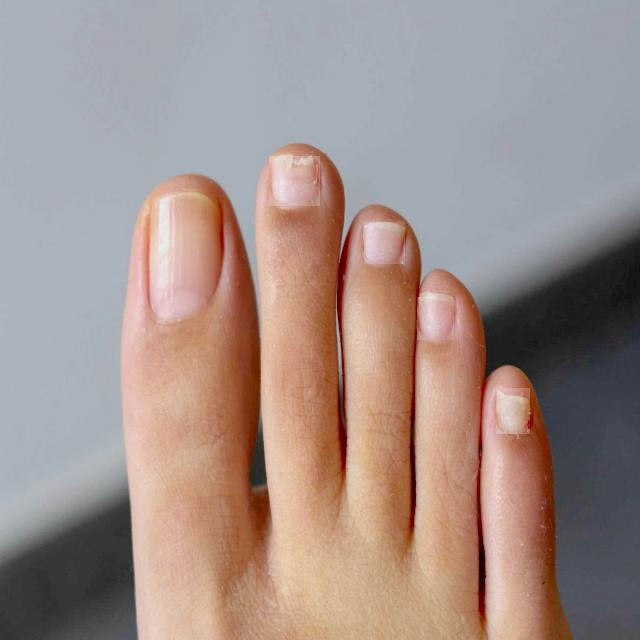diabetes: (270, 157, 320, 206), (496, 389, 530, 434)
sehat: (149, 192, 222, 323), (364, 222, 405, 264), (418, 297, 454, 340)
